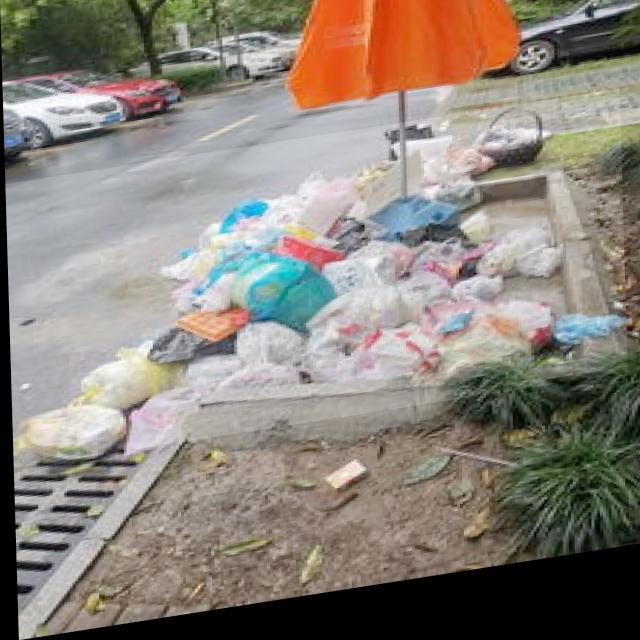garbage: (4, 109, 625, 468)
